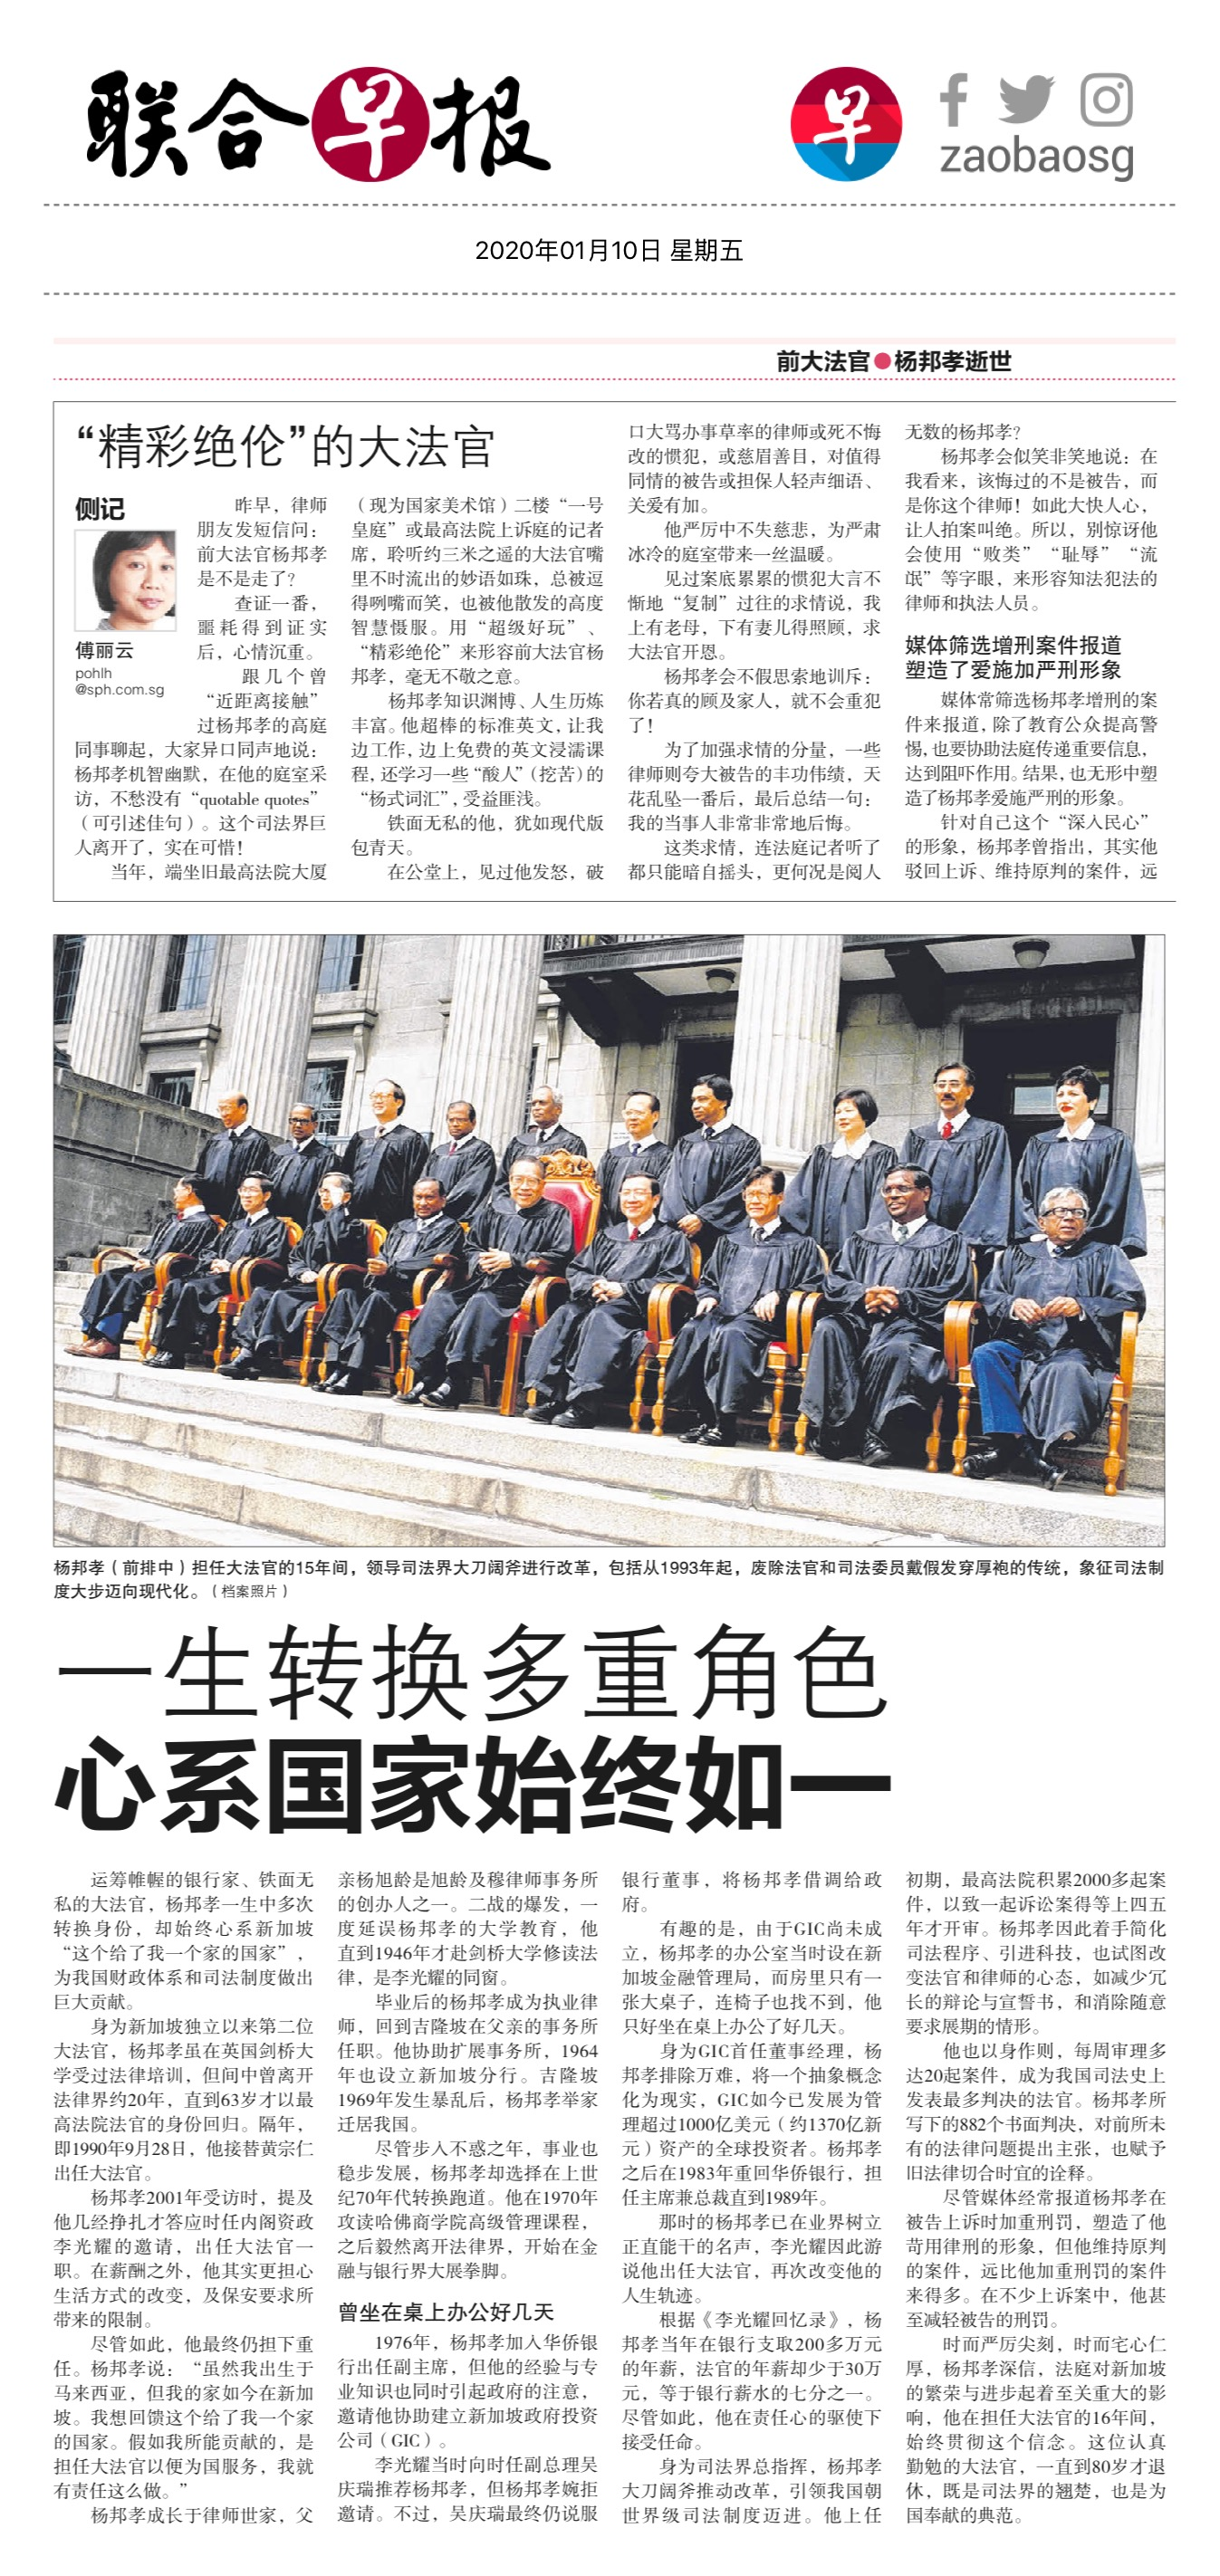heading: (33, 1617, 906, 1848)
